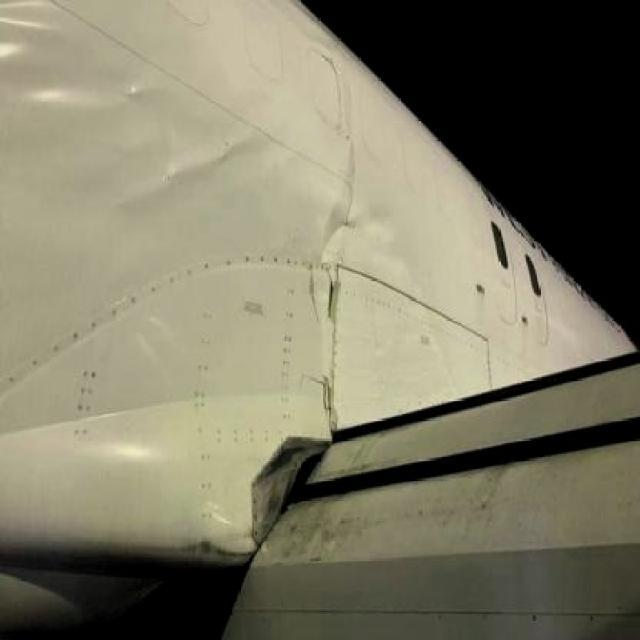dent: (143, 123, 266, 200), (314, 170, 397, 278), (29, 72, 154, 111), (2, 6, 75, 63), (92, 414, 161, 460)
